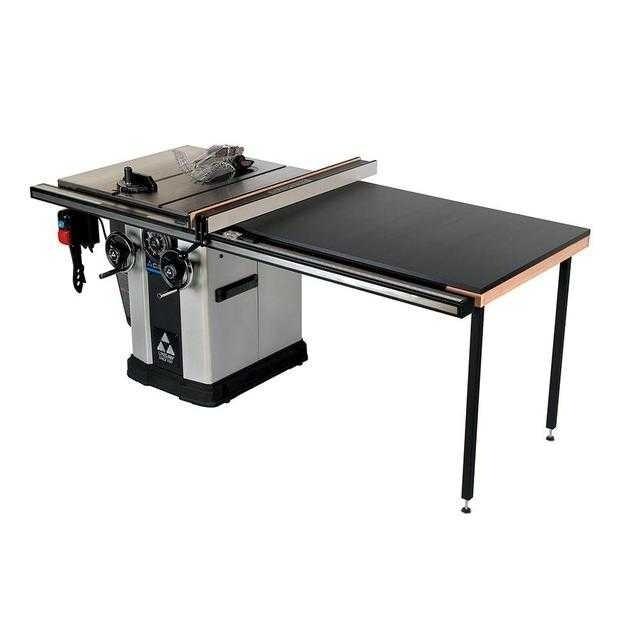obstacle: (31, 146, 589, 511)
